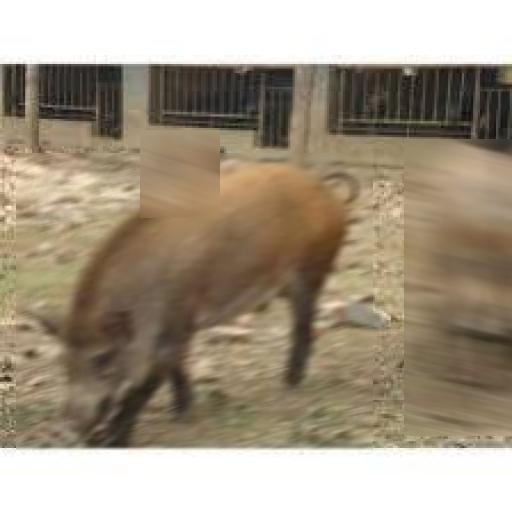Pig: (16, 153, 373, 450), (404, 139, 512, 436), (140, 130, 220, 218)
